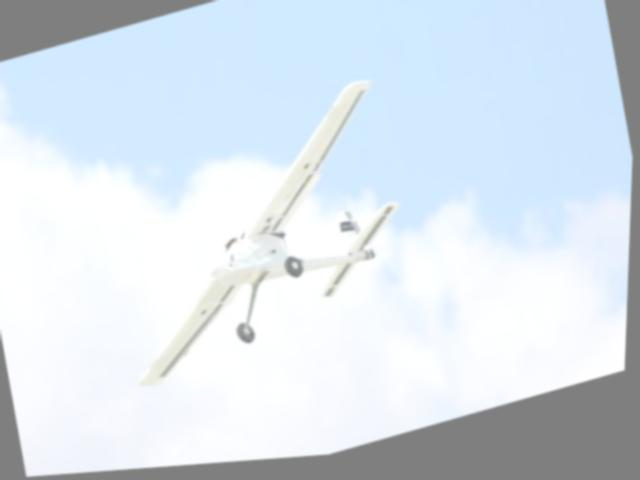uav: (90, 78, 429, 398)
